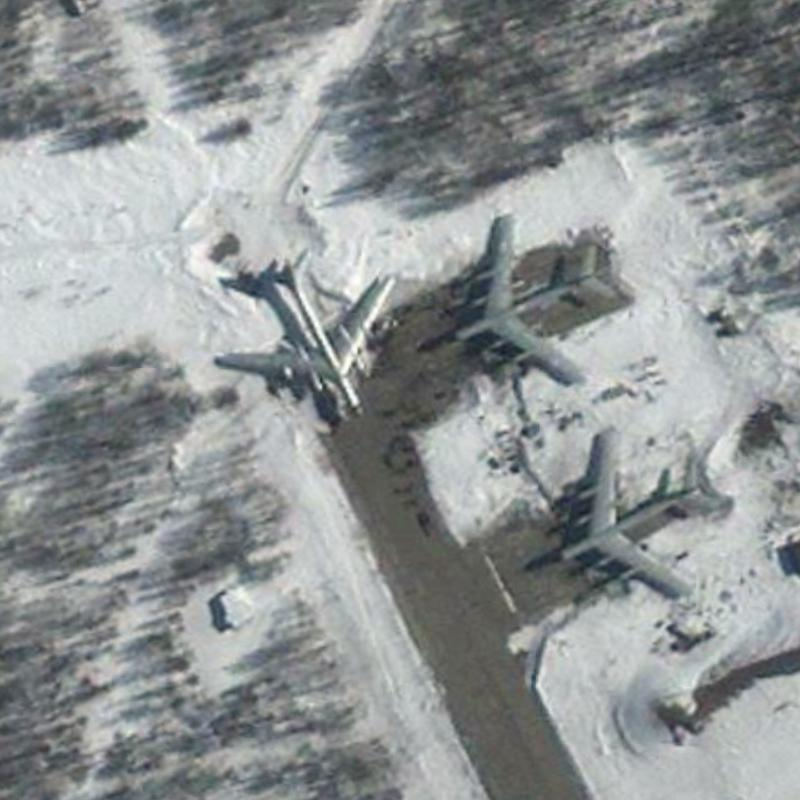A17: (541, 426, 733, 605), (209, 243, 399, 423), (434, 208, 622, 388)
